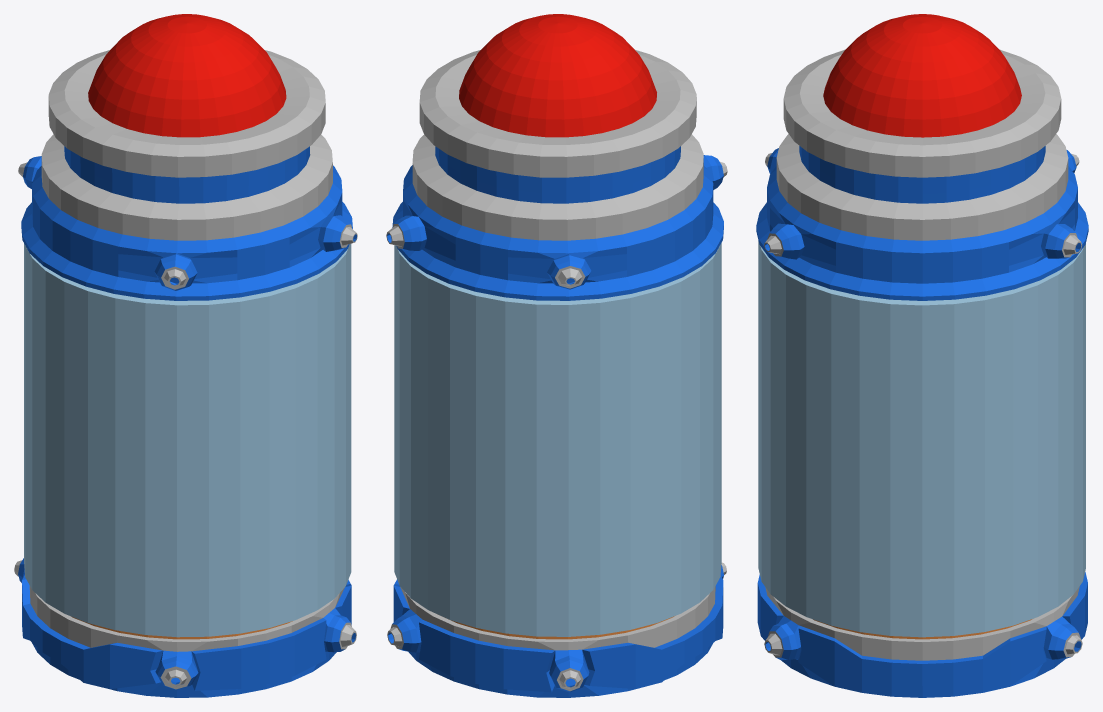
File: Capsula de ugrade.fbx
3 renders of one model, left to right at view 1: azimuth 30°, elevation 25°; view 2: azimuth 150°, elevation 25°; view 3: azimuth 270°, elevation 25°, orthographic.
Parts seen in each view (by area): view 1: Cilindro, Cilindro.001; view 2: Cilindro, Cilindro.001; view 3: Cilindro, Cilindro.001.
Boxes of the visible parts, <box> form: Cilindro: <box>14,243,356,697</box>; Cilindro.001: <box>18,14,357,300</box>; Cilindro: <box>387,243,726,697</box>; Cilindro.001: <box>386,14,727,300</box>; Cilindro: <box>757,241,1087,697</box>; Cilindro.001: <box>756,14,1088,300</box>.
Size of the model in its own units: 214 by 431 by 214.
